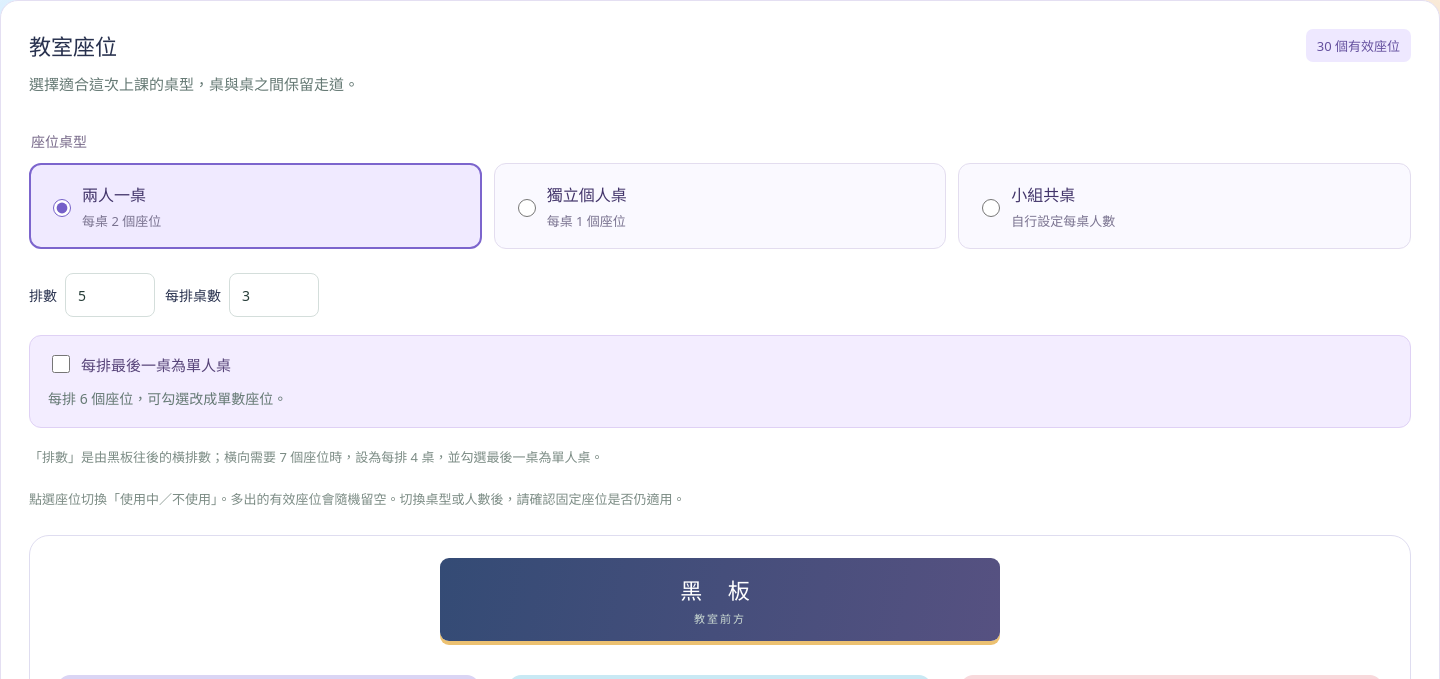
Test case: 桌型設定互動 › 可切換個人桌，再切換小組並清空重輸人數
The width and height of the screenshot is (1440, 679).
Click the radio button labelled "獨立個人桌". click: {"x": 527, "y": 208}
box: [518,198,536,216]
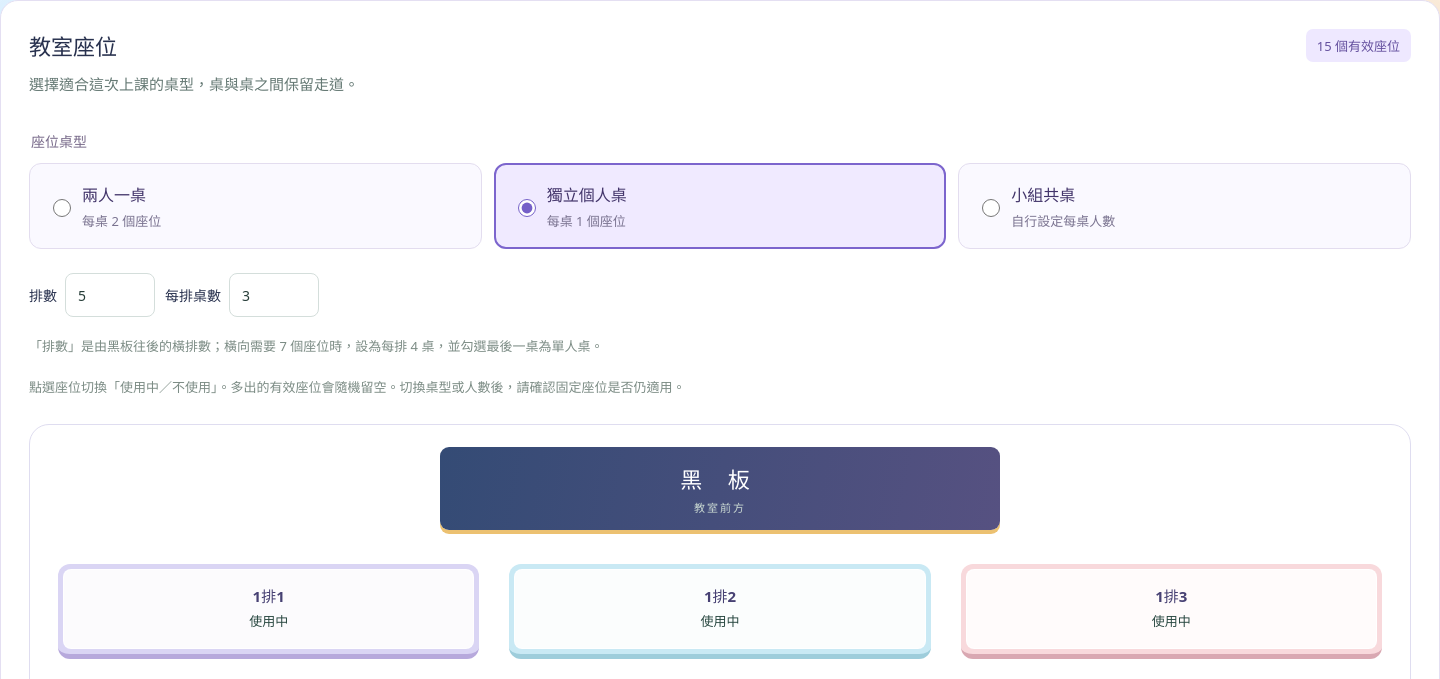
Result: the text "15 個有效座位" is shown at [1306,29,1411,62]
Click the radio button labelled "小組共桌". click: {"x": 991, "y": 208}
box: [982,198,1000,216]
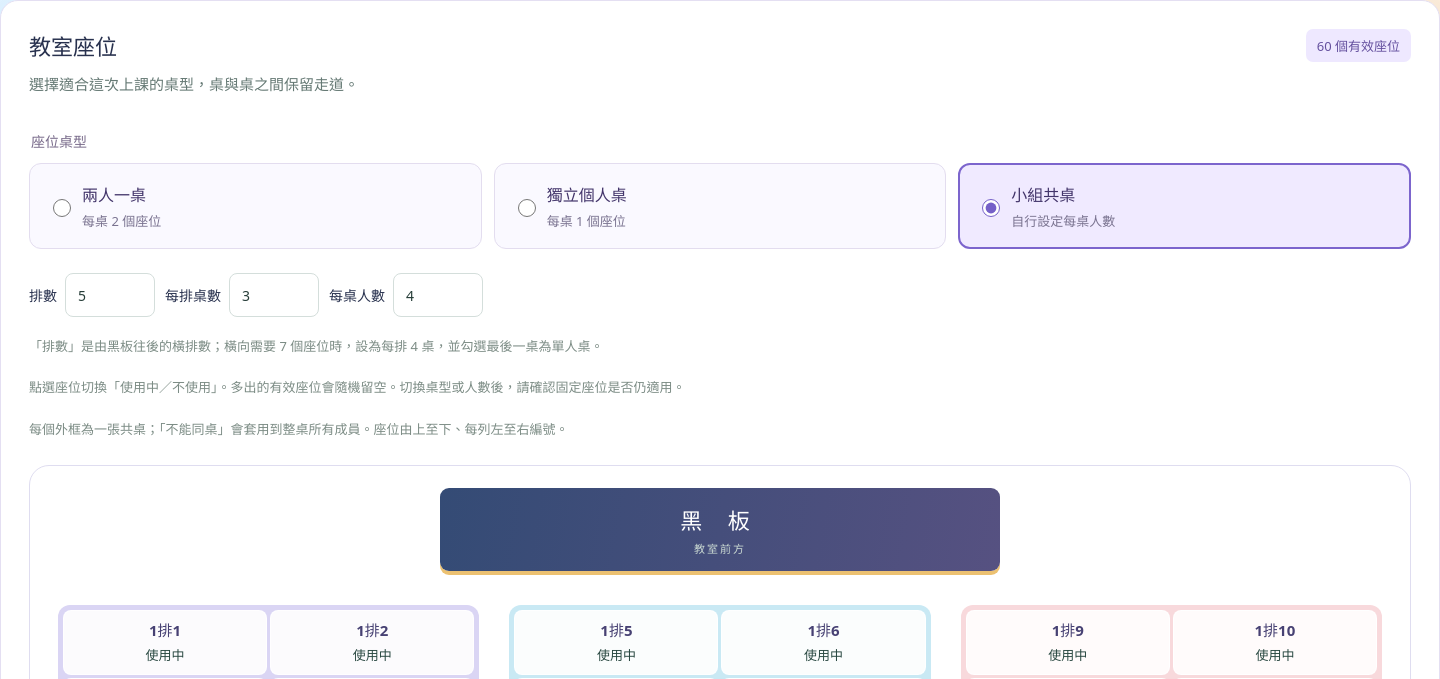
Result: the text "60 個有效座位" is shown at [1306,29,1411,62]
Clear the number field labelled "每桌人數". click: {"x": 438, "y": 295}
box: [393,273,483,317]
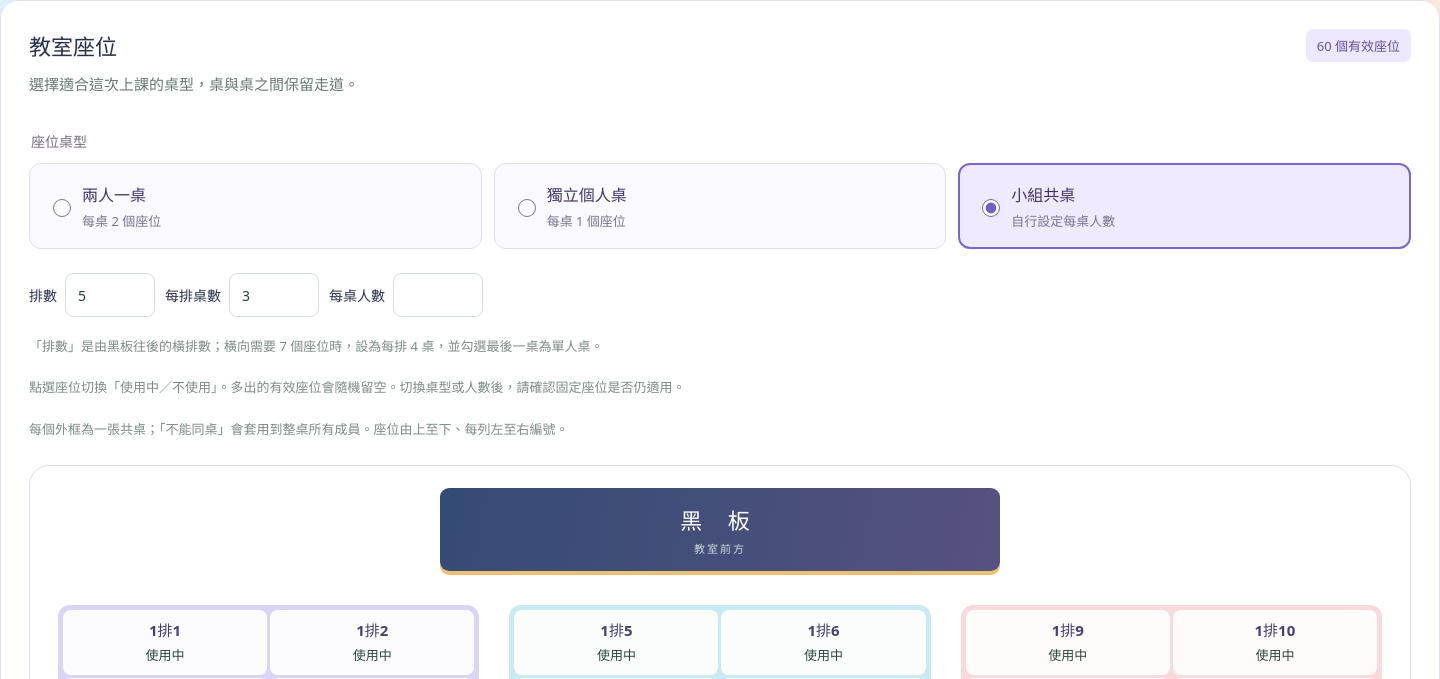
Type "6" into the number field labelled "每桌人數". click: {"x": 438, "y": 295}
box: [393,273,483,317]
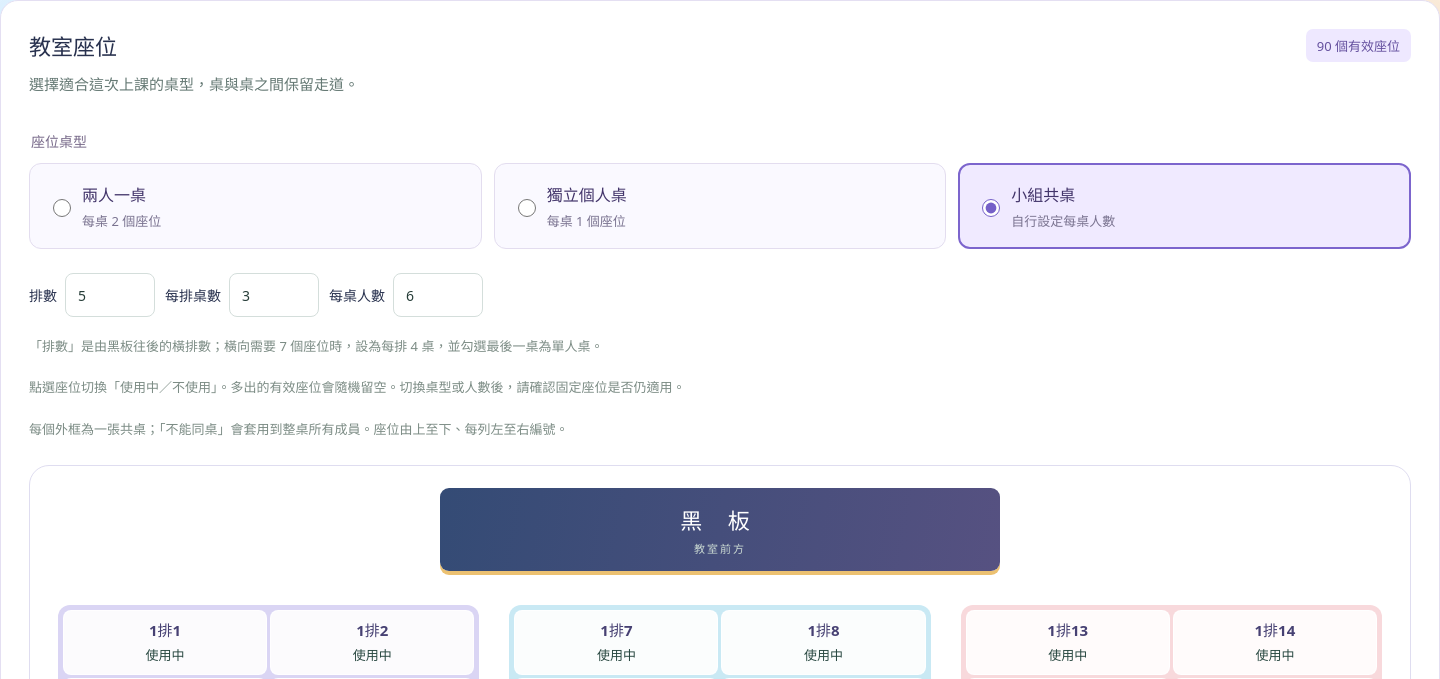
Result: the text "90 個有效座位" is shown at [1306,29,1411,62]
Click the radio button labelled "兩人一桌". click: {"x": 62, "y": 208}
box: [53,198,71,216]
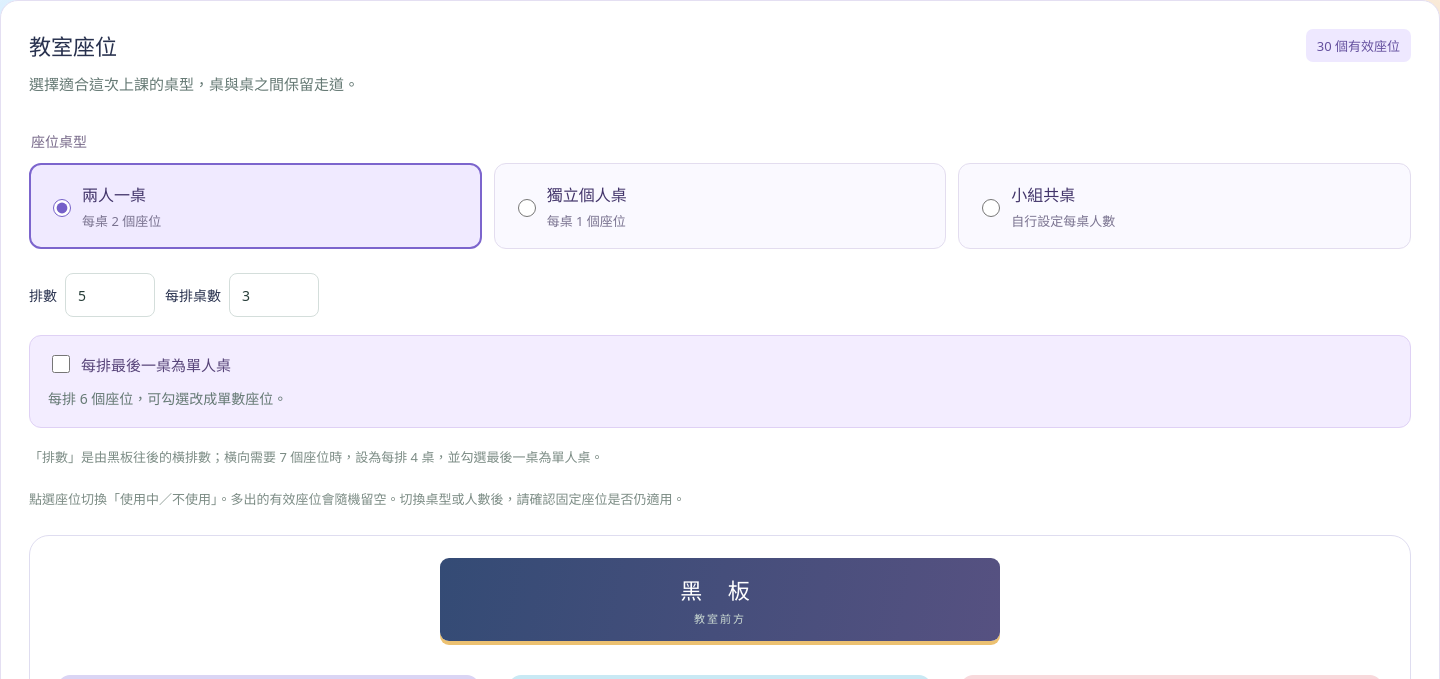
Result: the text "30 個有效座位" is shown at [1306,29,1411,62]
